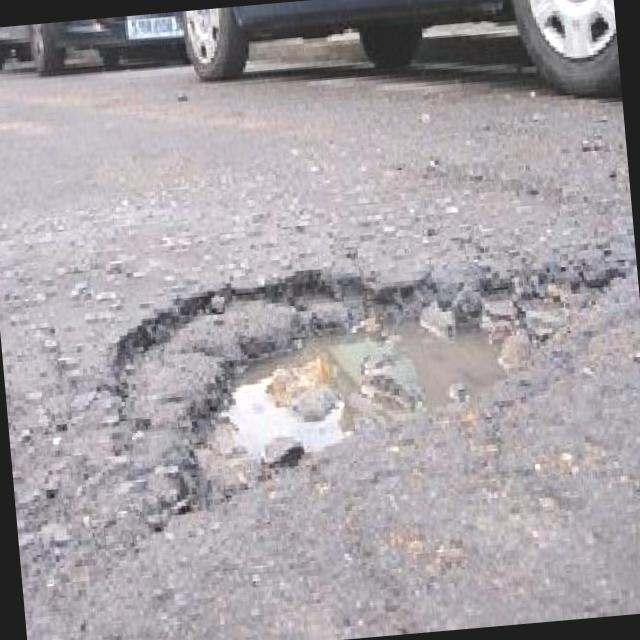Lubang: (114, 265, 617, 526)
